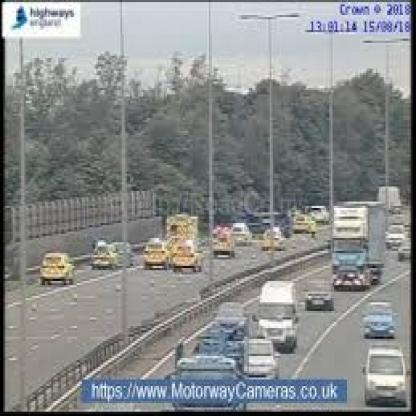car: (248, 266, 301, 364), (349, 334, 416, 408), (349, 292, 402, 338), (298, 268, 338, 320), (40, 247, 82, 294)
